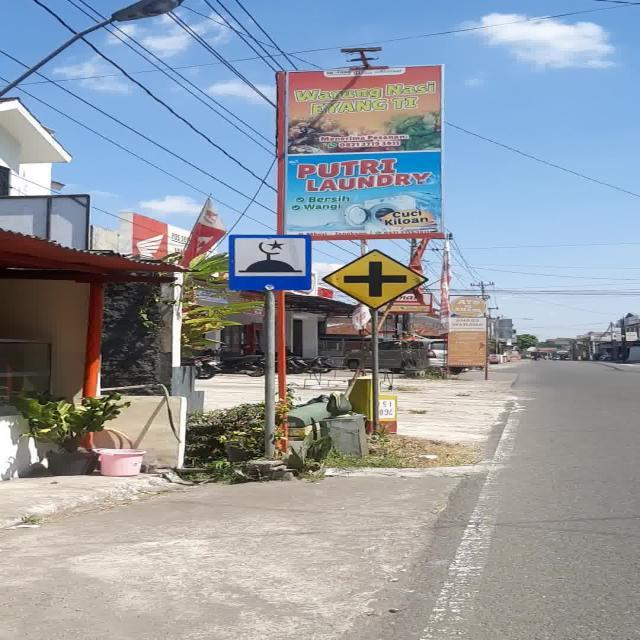Masjid: (228, 234, 312, 292)
Persimpangan 4: (322, 249, 428, 310)
